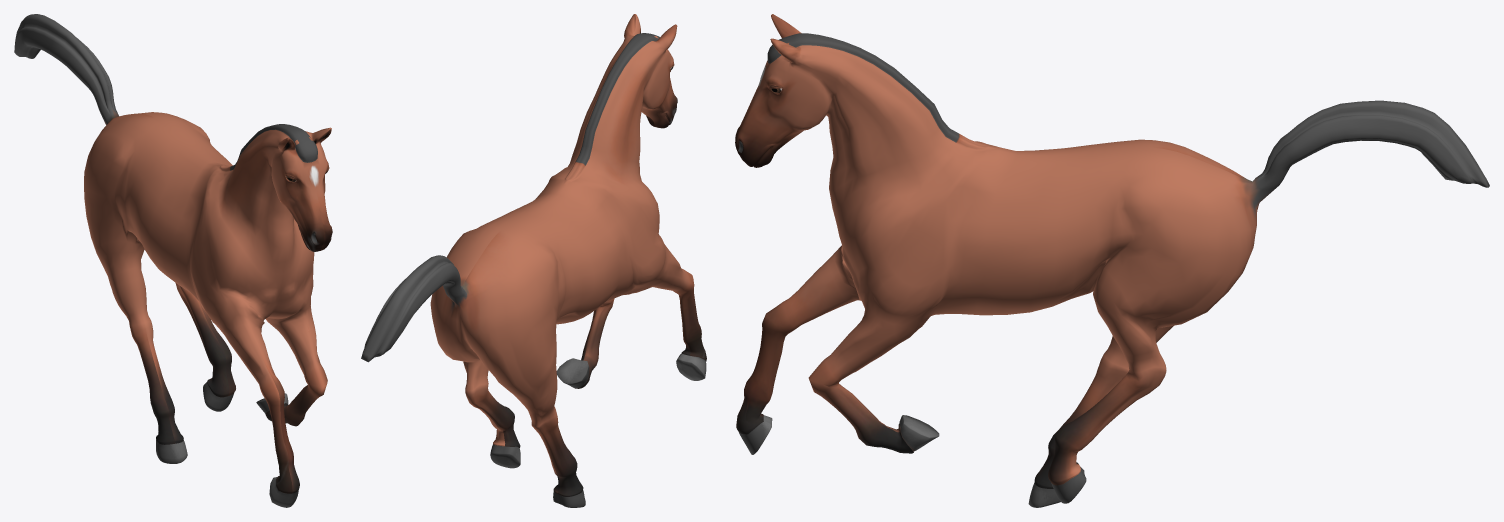
Rendered from horse_obj_7.obj.
The picture shows the model from 3 angles, left to right: view 1: azimuth 30°, elevation 25°; view 2: azimuth 150°, elevation 25°; view 3: azimuth 270°, elevation 25°; orthographic projection. The views are drawn at different scales.
Visible parts, largest first — view 1: Figure_1; view 2: Figure_1; view 3: Figure_1.
Part boxes in pixels (<box>): Figure_1: <box>14,14,332,507</box>; Figure_1: <box>361,14,706,507</box>; Figure_1: <box>735,14,1489,507</box>.
Size of the model in its own units: 0.2421 by 0.8509 by 1.18.
7 materials, 7 textured.
